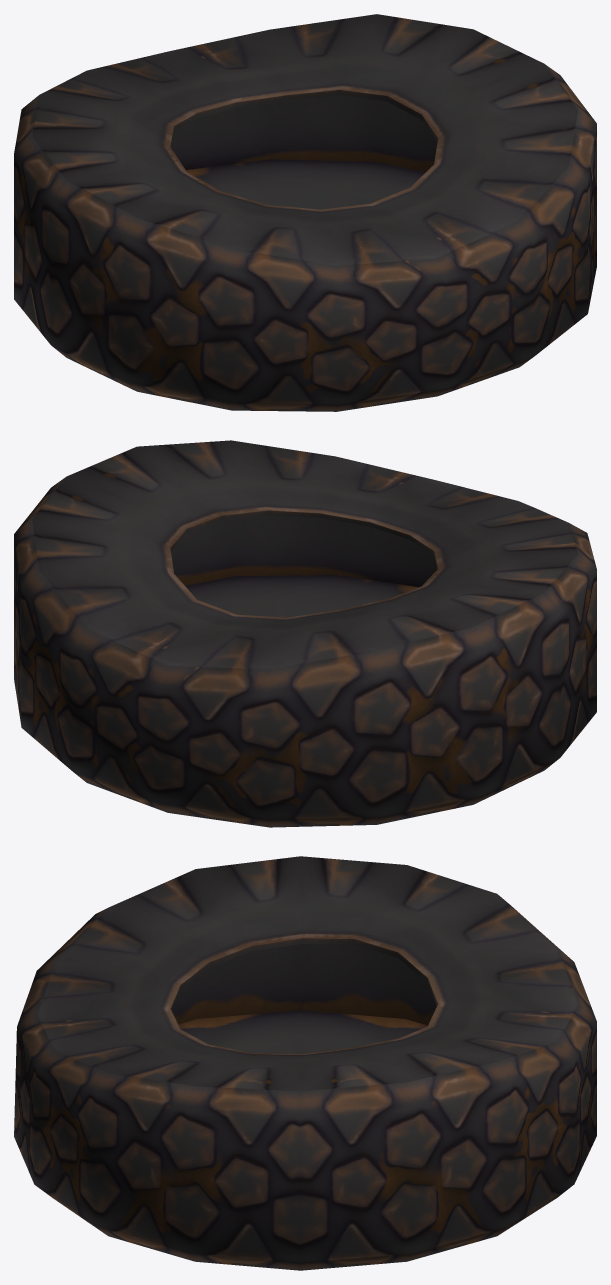
The model's file is Tires01_2.FBX.
3 renders of one model, top to bottom at view 1: azimuth 30°, elevation 25°; view 2: azimuth 150°, elevation 25°; view 3: azimuth 270°, elevation 25°, orthographic.
Visible parts, largest first — view 1: Tires01_2; view 2: Tires01_2; view 3: Tires01_2.
Boxes of the visible parts, x1=… form: Tires01_2: x1=14, y1=14, x2=596, y2=411; Tires01_2: x1=14, y1=440, x2=596, y2=827; Tires01_2: x1=14, y1=856, x2=596, y2=1270.
Size of what is drawn, in the model's own units: 1.2 by 0.4012 by 1.18.
